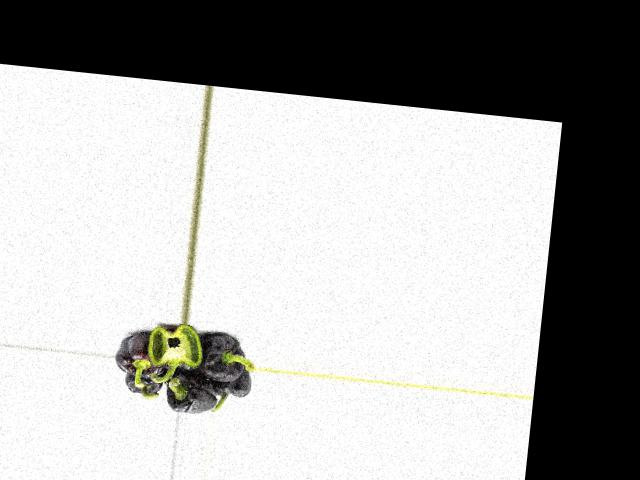bell_pepper: (115, 332, 175, 380)
